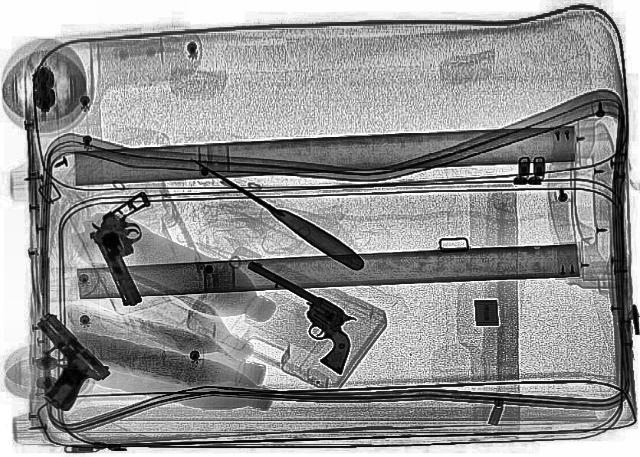Gun: (202, 260, 390, 374), (78, 192, 190, 306), (0, 318, 121, 404)
Knife: (185, 152, 372, 272)
